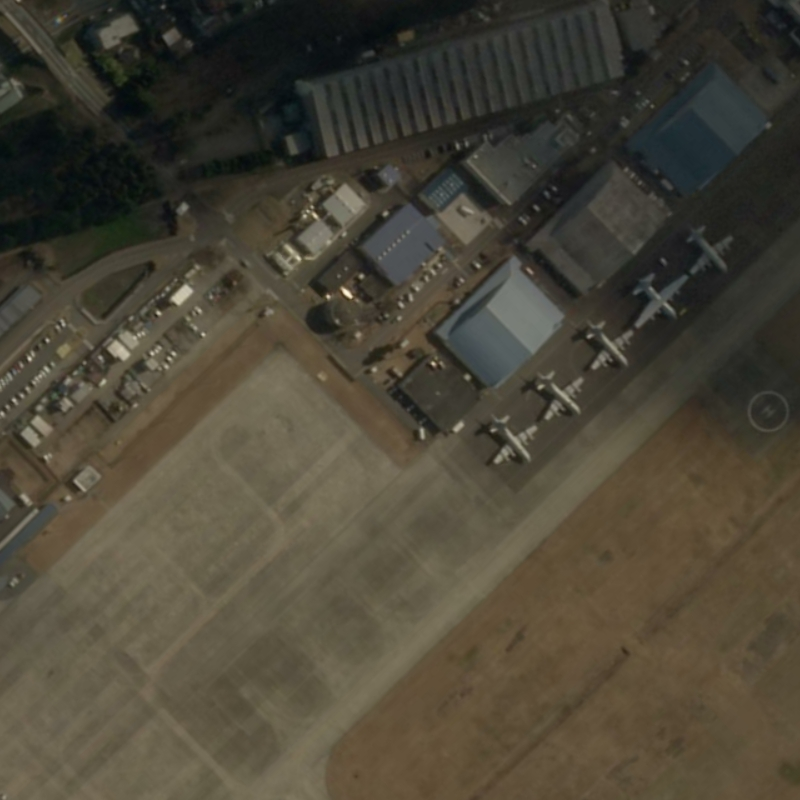A2: (627, 267, 692, 331)
A9: (483, 405, 540, 469), (577, 316, 638, 373), (682, 219, 739, 279), (530, 365, 587, 422)
